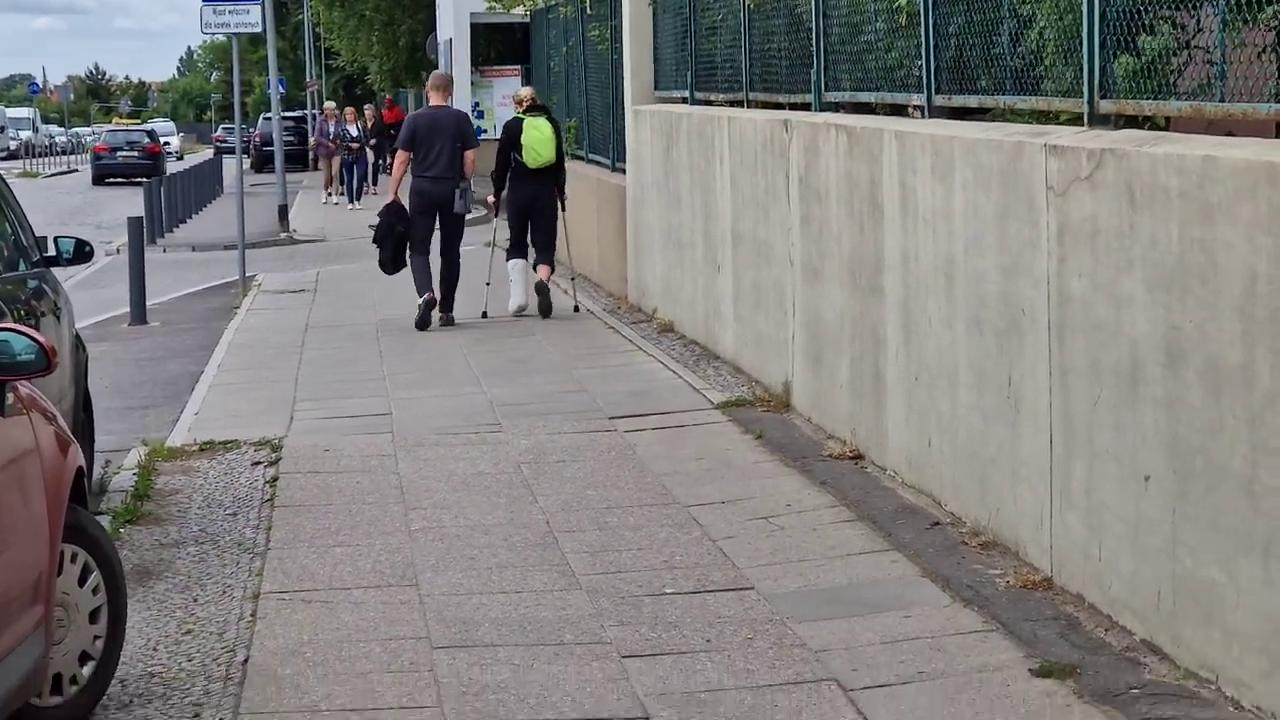crutches: (479, 84, 580, 317)
